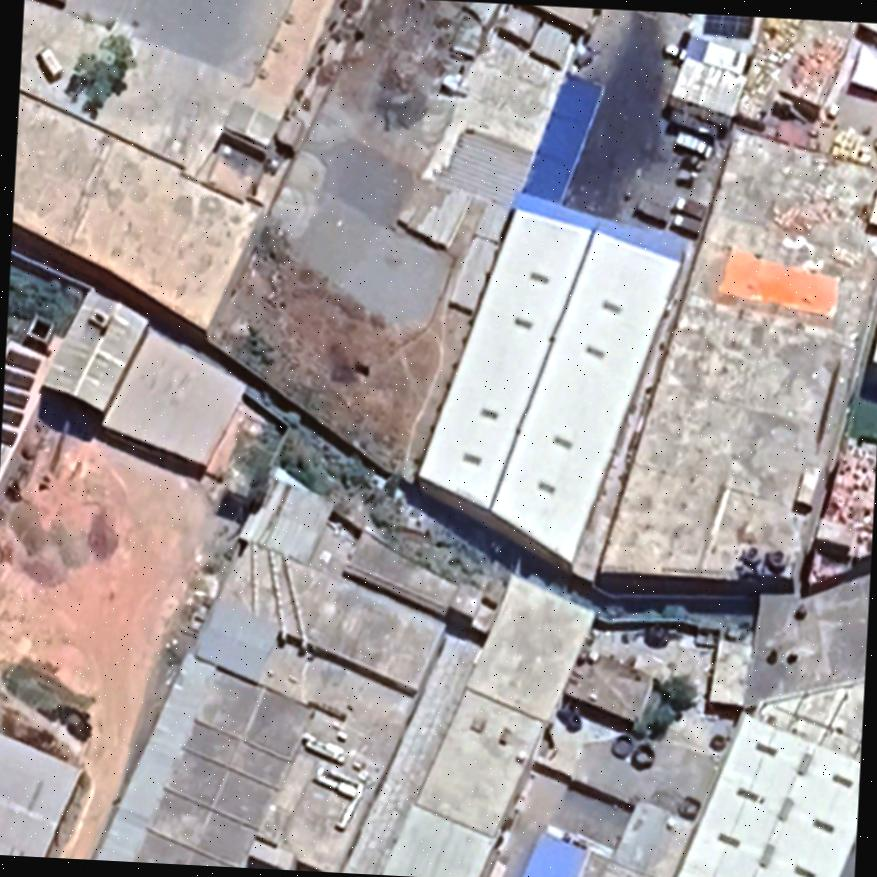Solarpanel: (2, 344, 46, 448), (700, 14, 756, 42)
